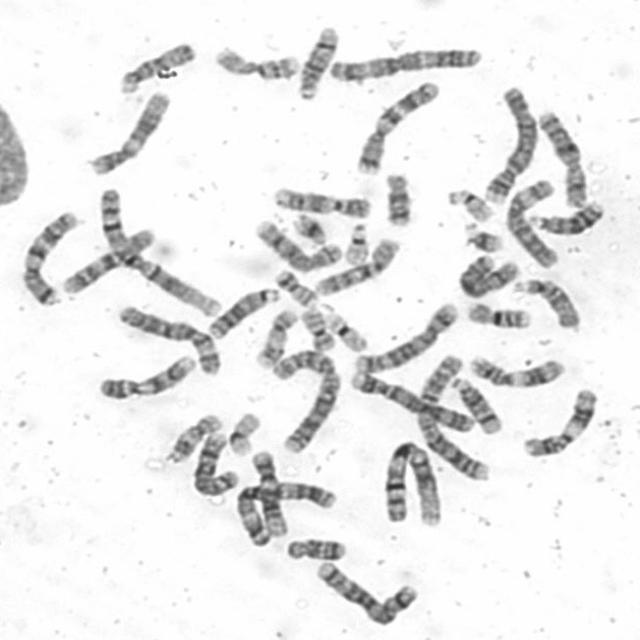A1: (92, 183, 224, 320), (378, 437, 444, 528)
A2: (411, 352, 494, 483), (264, 343, 343, 454)
A3: (233, 477, 339, 547), (327, 41, 488, 85)
B4: (346, 364, 477, 434), (478, 80, 542, 205)
B5: (349, 297, 460, 376), (312, 557, 422, 626)
C10: (56, 223, 159, 297), (308, 233, 403, 297)
C11: (518, 383, 601, 461), (464, 350, 568, 390)
C12: (84, 86, 174, 176), (247, 448, 290, 538)
C6: (114, 300, 224, 378), (498, 174, 562, 268)
C7: (352, 75, 443, 176), (16, 207, 84, 309)
C8: (250, 216, 345, 274), (189, 429, 241, 497)
C9: (94, 350, 200, 401), (270, 183, 374, 220)
D13: (204, 284, 283, 340), (524, 196, 606, 235)
D14: (294, 22, 341, 101), (448, 372, 506, 436)
D15: (114, 38, 198, 96), (510, 274, 584, 332)
E16: (209, 41, 304, 82), (461, 298, 533, 330)
E17: (163, 408, 225, 463), (251, 304, 299, 369)
E18: (380, 167, 415, 228), (282, 535, 347, 563)
F19: (320, 308, 370, 352), (225, 408, 263, 458)
F20: (270, 266, 320, 309), (298, 304, 338, 352)
G21: (459, 218, 507, 254), (288, 209, 330, 248)
G22: (442, 183, 497, 224), (341, 220, 370, 267)
X: (534, 106, 590, 211), (452, 249, 523, 300)
